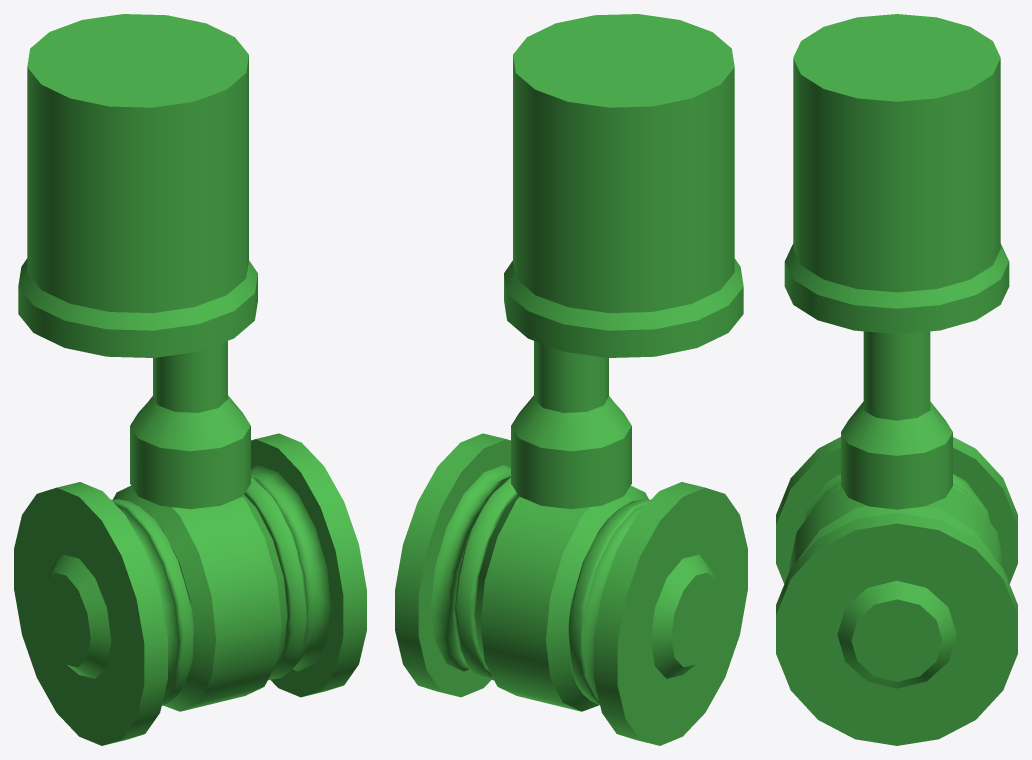
3 views of the same model, side by side, from view 1: azimuth 30°, elevation 25°; view 2: azimuth 150°, elevation 25°; view 3: azimuth 270°, elevation 25° (orthographic). The views are drawn at different scales.
Visible parts, largest first — view 1: 电动阀门; view 2: 电动阀门; view 3: 电动阀门.
Part boxes in pixels (x1,y1,x2,y2): 电动阀门: (14,14,366,745); 电动阀门: (395,14,747,745); 电动阀门: (776,14,1017,745).
Bounding box in the file's own units: 8.46 × 19.01 × 6.79.
